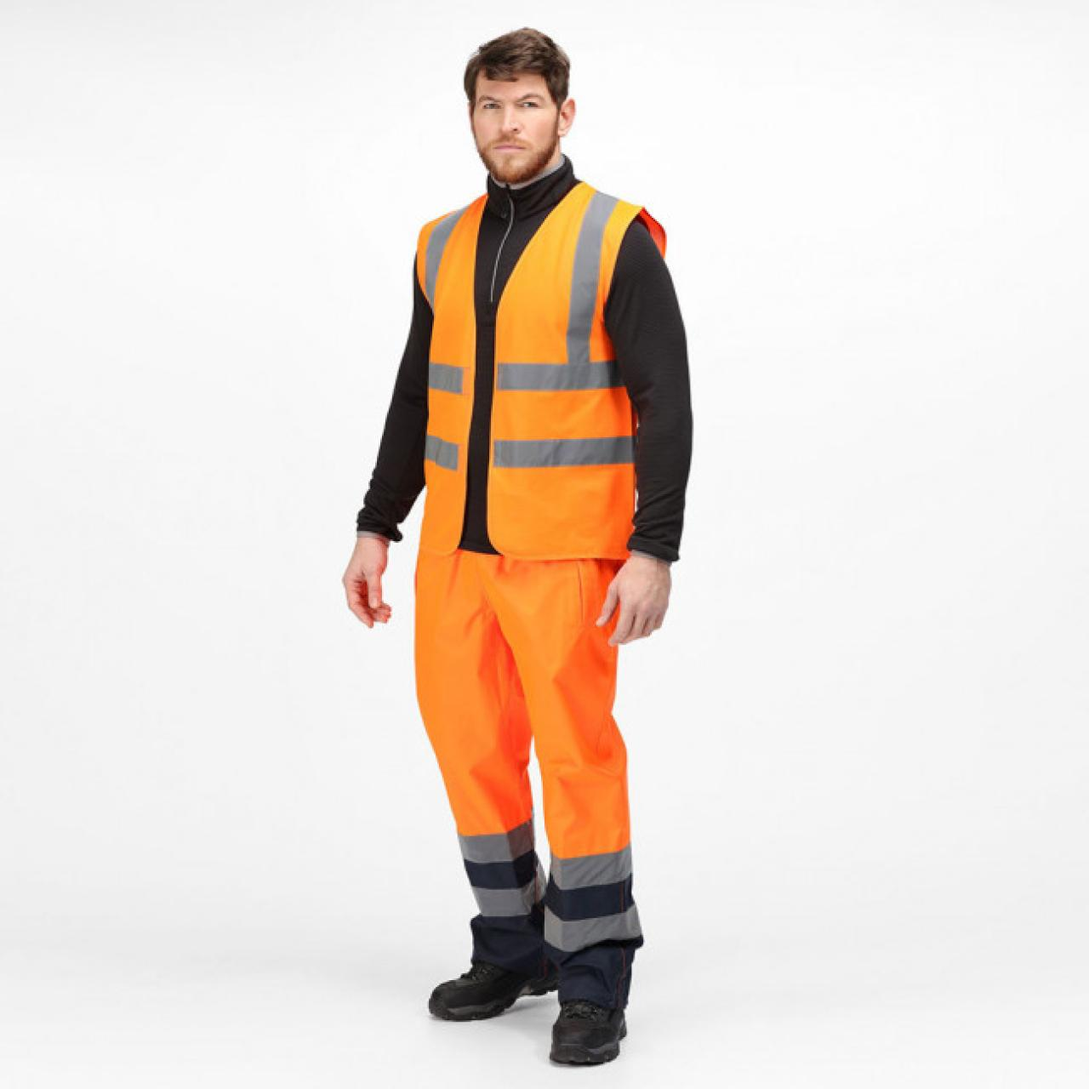Person: (304, 0, 760, 1089)
Safety_Vest: (405, 182, 669, 560)
